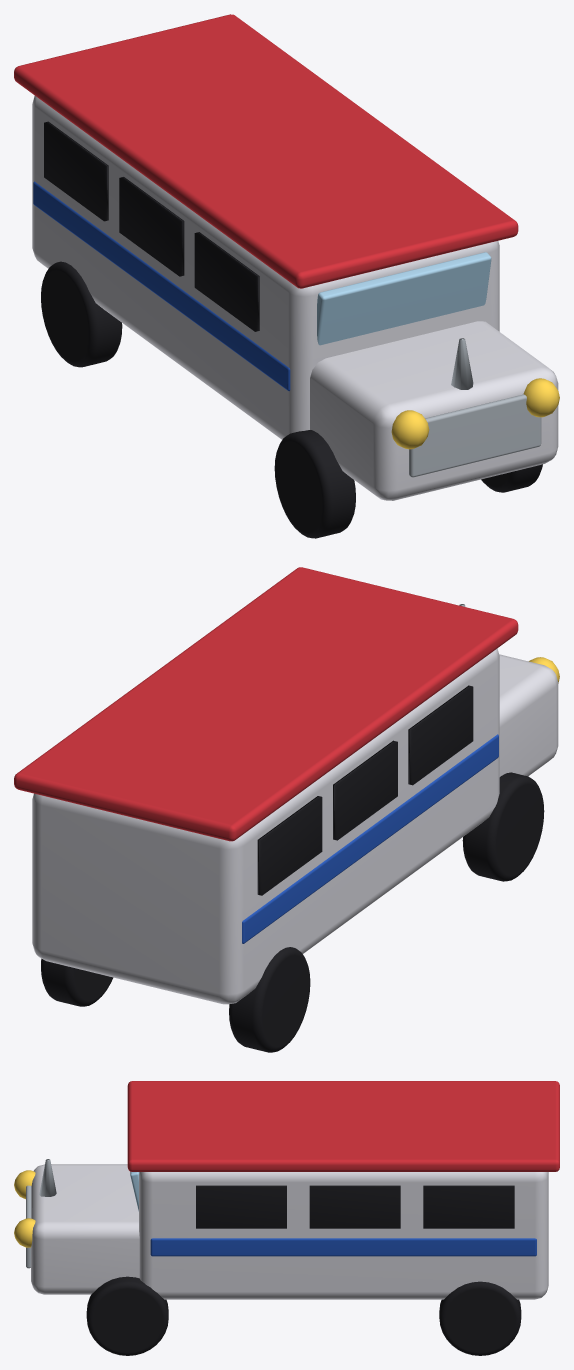
The model's file is jeepney.glb.
3 renders of one model, top to bottom at view 1: azimuth 30°, elevation 25°; view 2: azimuth 150°, elevation 25°; view 3: azimuth 270°, elevation 25°, orthographic. The views are drawn at different scales.
Visible parts, largest first — view 1: Jeepney; view 2: Jeepney; view 3: Jeepney.
Part boxes in pixels (<box>): Jeepney: <box>14,14,559,538</box>; Jeepney: <box>14,567,559,1052</box>; Jeepney: <box>14,1081,559,1355</box>.
Bounding box in the file's own units: 1.7 × 1.91 × 4.8.
